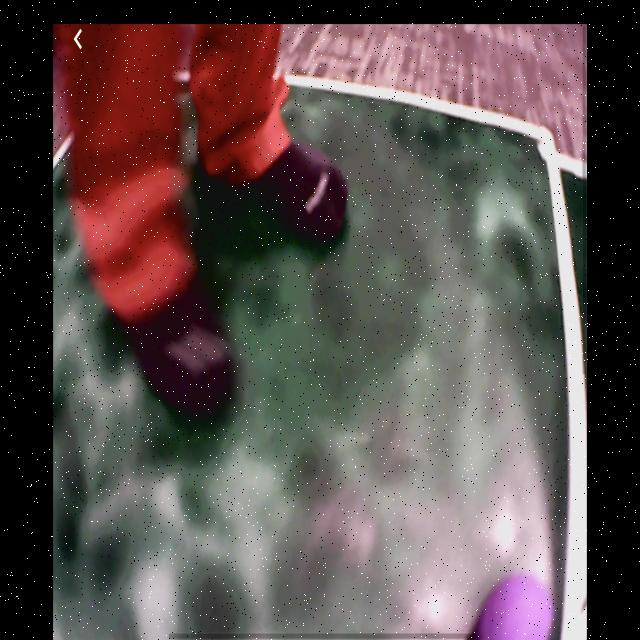ball: (472, 575, 556, 639)
